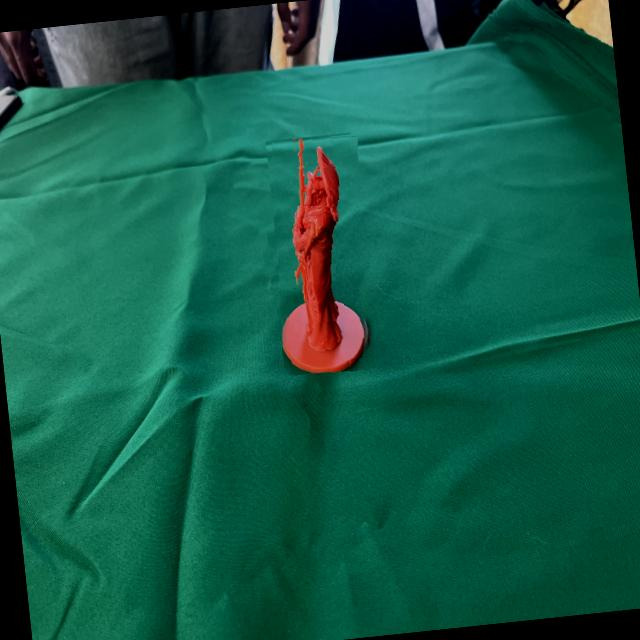amon: (262, 131, 378, 377)
